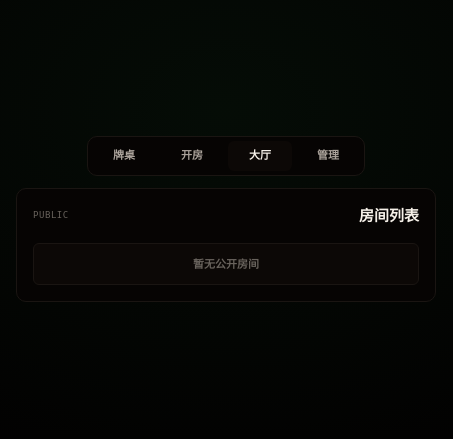
Scenario: App shell › uses the stored player handle for room creation
Click the button "开房" at (192, 156), box [160,141,224,171]
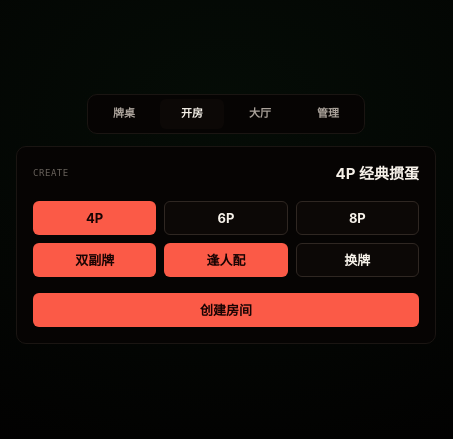
Click the button "创建房间" at (226, 310), box [33,293,419,327]
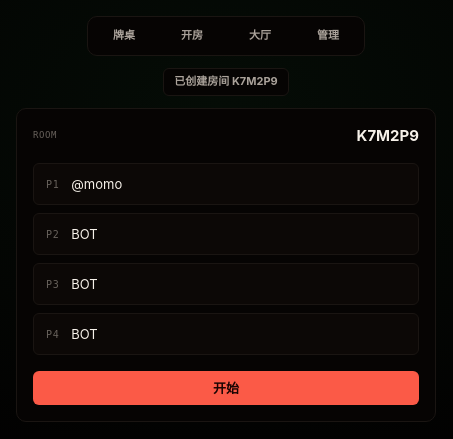
Expected: the element named "Waiting room" is shown
